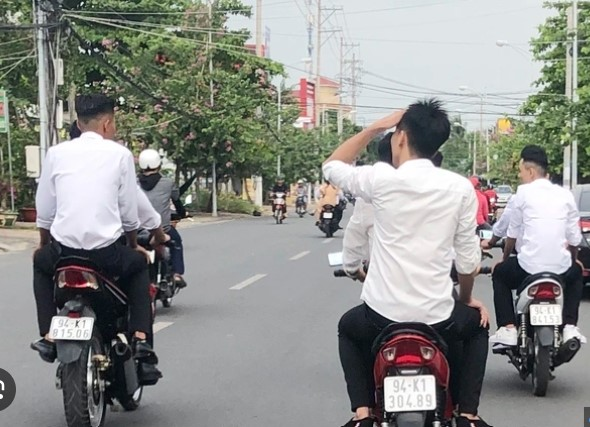bien_so: (381, 372, 439, 414), (47, 314, 95, 346), (527, 300, 566, 329), (322, 211, 334, 220)
